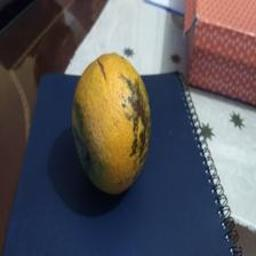Orange Semirotten: (65, 52, 165, 207)
